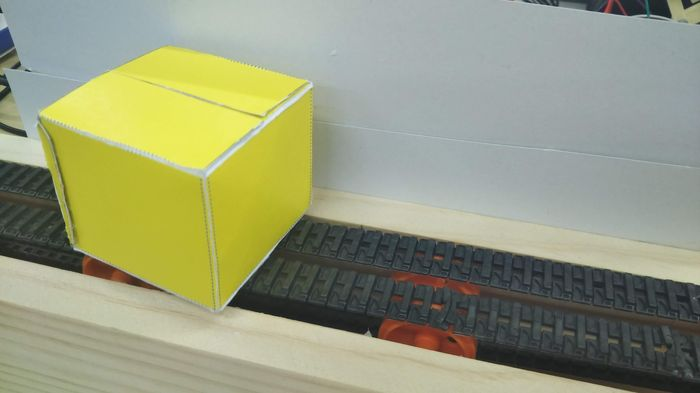box4: (34, 40, 316, 314)
